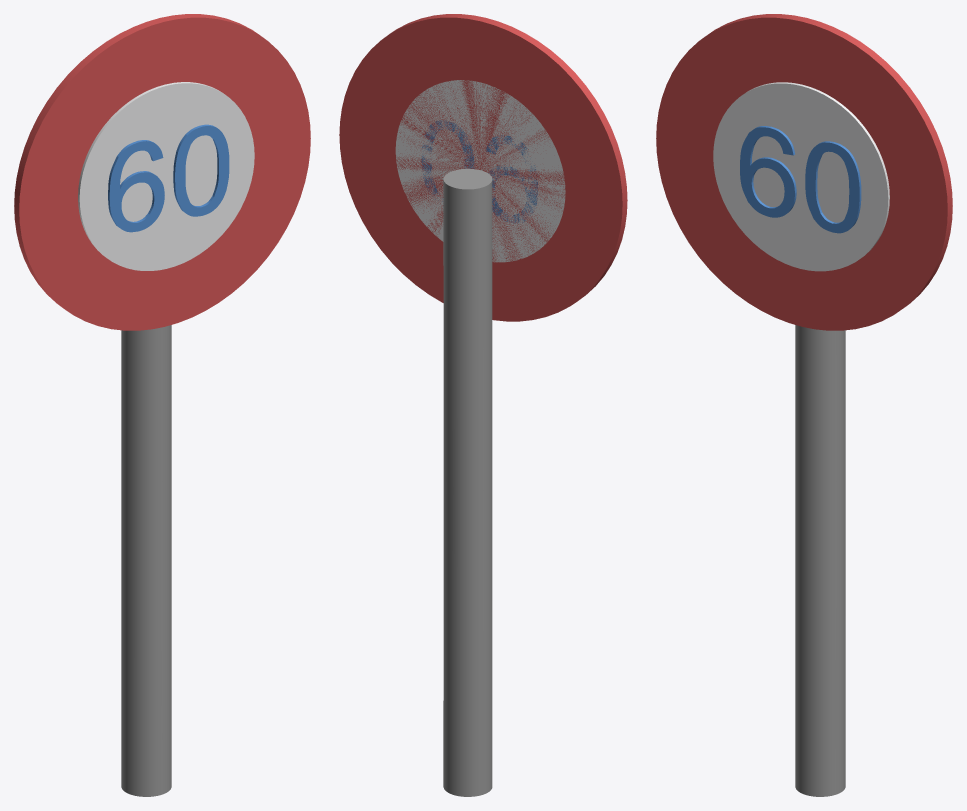
The picture shows the model from 3 angles, left to right: view 1: azimuth 30°, elevation 25°; view 2: azimuth 150°, elevation 25°; view 3: azimuth 330°, elevation 25°; orthographic projection. The views are drawn at different scales.
Visible parts, largest first — view 1: Body13, Body16, Body10, Body15, Body14; view 2: Body13, Body16, Body10, Body15, Body14; view 3: Body13, Body16, Body10, Body15, Body14.
Boxes of the visible parts, x1,y1,x2,y2 form: Body13: (14, 14, 310, 330); Body16: (121, 325, 171, 796); Body10: (78, 82, 254, 270); Body15: (108, 140, 164, 232); Body14: (173, 124, 229, 216); Body13: (339, 14, 627, 321); Body16: (443, 168, 492, 796); Body10: (395, 80, 565, 262); Body15: (486, 135, 537, 223); Body14: (421, 120, 474, 201); Body13: (656, 14, 952, 330); Body16: (795, 325, 845, 796); Body10: (713, 82, 889, 271); Body15: (740, 126, 796, 217); Body14: (805, 141, 861, 233).
Size of the model in its own units: 10 by 25.5 by 2.05.
